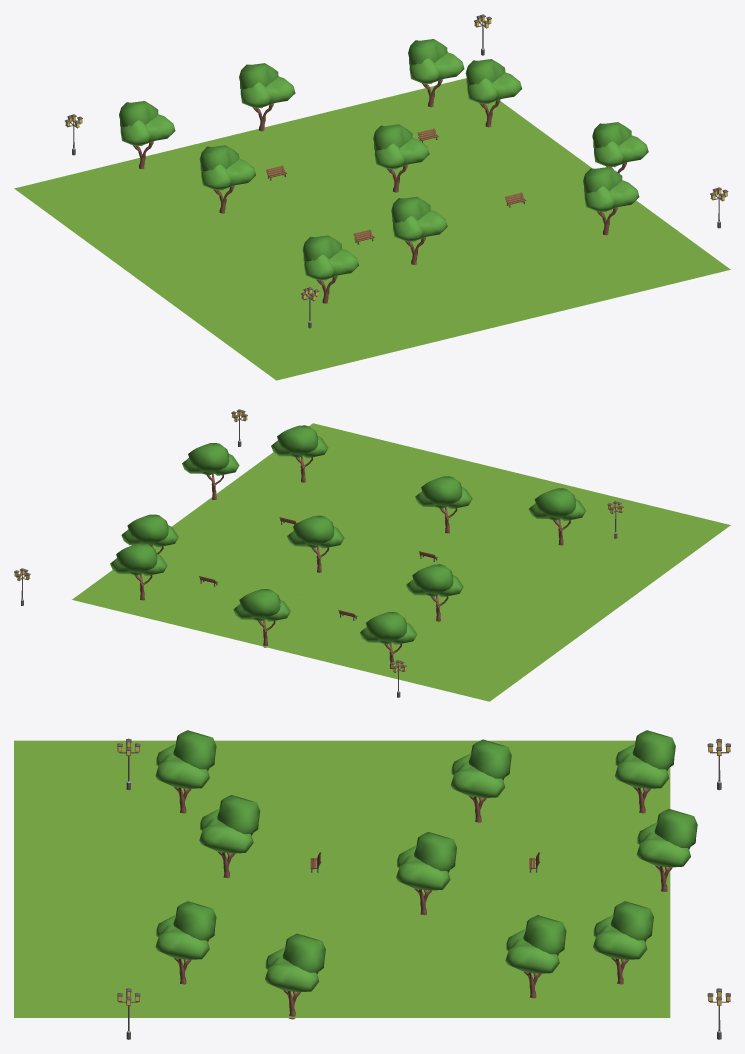
The model's file is block_park.glb.
3 views of the same model, one above another, from view 1: azimuth 30°, elevation 25°; view 2: azimuth 150°, elevation 25°; view 3: azimuth 270°, elevation 25° (orthographic). The views are drawn at different scales.
Visible parts, largest first — view 1: grass_3, grass_1, grass_12, grass_8, grass_2, grass_0, grass_4, grass_11, grass_9, grass_14, grass_6, grass_15 (+14 smaller); view 2: grass_8, grass_4, grass_12, grass_0, grass_5, grass_10, grass_7, grass_11, grass_6, grass_15, grass_3, grass_2 (+14 smaller); view 3: grass_1, grass_11, grass_3, grass_10, grass_2, grass_0, grass_13, grass_15, grass_6, grass_4, grass_9, grass_5 (+14 smaller).
Boxes of the visible parts, x1=… form: grass_3: x1=552, y1=221, x2=730, y2=297; grass_1: x1=325, y1=277, x2=503, y2=352; grass_12: x1=14, y1=161, x2=192, y2=236; grass_8: x1=80, y1=209, x2=258, y2=284; grass_2: x1=438, y1=249, x2=616, y2=324; grass_0: x1=211, y1=305, x2=389, y2=380; grass_4: x1=145, y1=257, x2=323, y2=332; grass_11: x1=426, y1=125, x2=592, y2=201; grass_9: x1=193, y1=181, x2=371, y2=256; grass_14: x1=241, y1=105, x2=382, y2=180; grass_6: x1=373, y1=201, x2=551, y2=276; grass_15: x1=355, y1=78, x2=533, y2=151; grass_8: x1=446, y1=588, x2=609, y2=657; grass_4: x1=506, y1=544, x2=669, y2=613; grass_12: x1=385, y1=632, x2=549, y2=701; grass_0: x1=566, y1=499, x2=730, y2=569; grass_5: x1=401, y1=518, x2=565, y2=587; grass_10: x1=237, y1=542, x2=400, y2=606; grass_7: x1=192, y1=467, x2=356, y2=534; grass_11: x1=153, y1=511, x2=289, y2=580; grass_6: x1=325, y1=493, x2=460, y2=562; grass_15: x1=72, y1=564, x2=236, y2=624; grass_3: x1=253, y1=423, x2=416, y2=492; grass_2: x1=357, y1=448, x2=521, y2=518; grass_1: x1=14, y1=810, x2=177, y2=879; grass_11: x1=342, y1=948, x2=505, y2=1017; grass_3: x1=14, y1=948, x2=177, y2=1017; grass_10: x1=342, y1=879, x2=505, y2=948; grass_2: x1=14, y1=879, x2=177, y2=948; grass_0: x1=14, y1=740, x2=177, y2=809; grass_13: x1=506, y1=810, x2=670, y2=879; grass_15: x1=506, y1=948, x2=670, y2=1017; grass_6: x1=178, y1=879, x2=341, y2=948; grass_4: x1=178, y1=740, x2=341, y2=809; grass_9: x1=342, y1=810, x2=505, y2=879; grass_5: x1=178, y1=810, x2=341, y2=879.
Size of the model in its own units: 65.56 by 7.95 by 65.56.
Materials: 38 (38 with a texture image).
